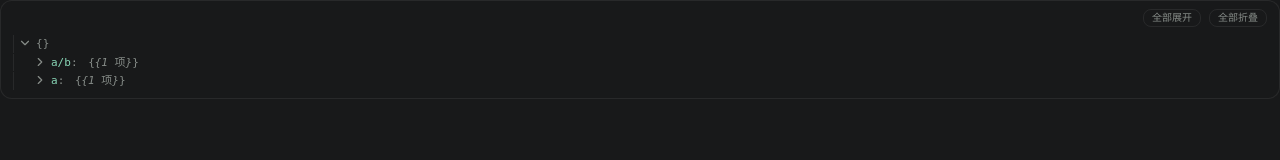
Test case: JsonViewer 组件 › 键名含 / 时展开状态互相隔离（回归：旧 `/` 拼接会让两行共用同一个键）
Click the button named "展开/收起" at (40, 62), box [33,54,47,70]
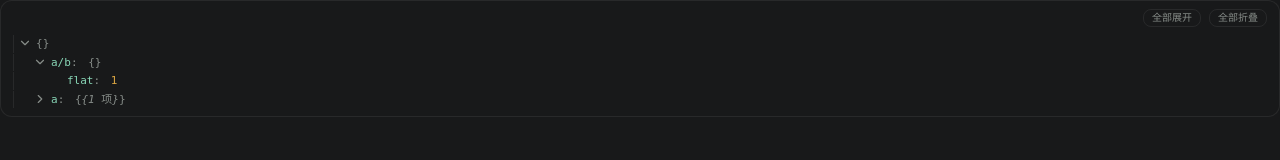
Check: the text "flat" is shown, box [67,72,107,90]
Click the button named "展开/收起" at (40, 99), box [33,91,47,107]
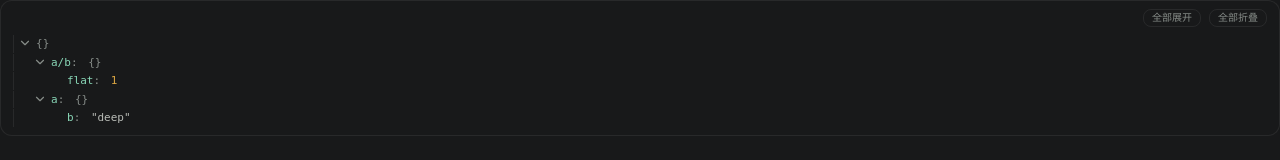
Check: the text "\"deep\"" is shown, box [91,109,131,127]
// 折叠扁平键：a 保持展开、deep 仍在。
Click the button named "展开/收起" at (40, 62), box [33,54,47,70]
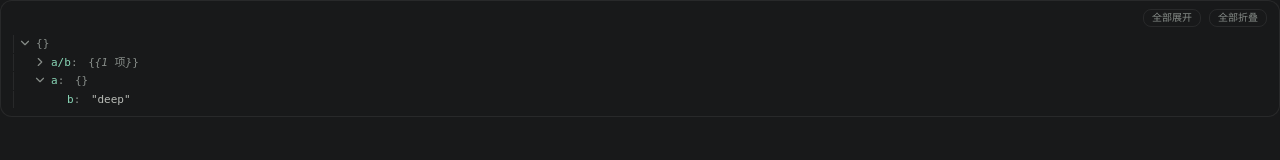
Check: the button named "展开/收起" is expanded, box [33,72,47,88]
Check: the text "\"deep\"" is shown, box [91,91,131,108]
Check: the text "flat" is gone
